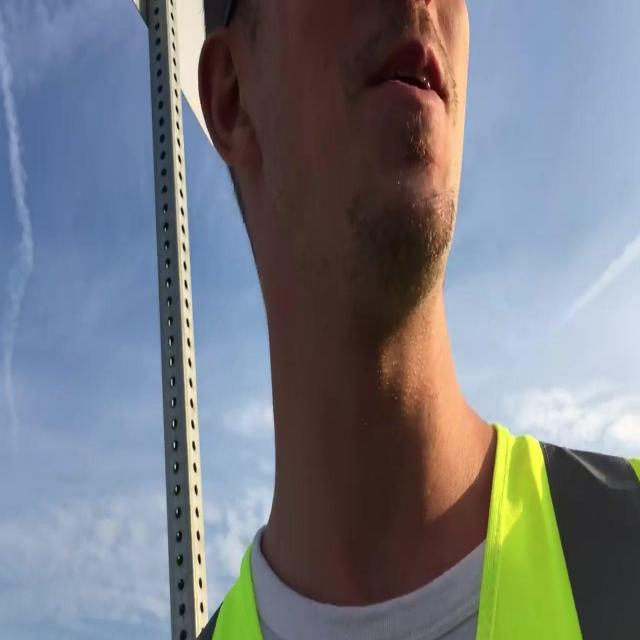vest: (191, 424, 639, 639)
